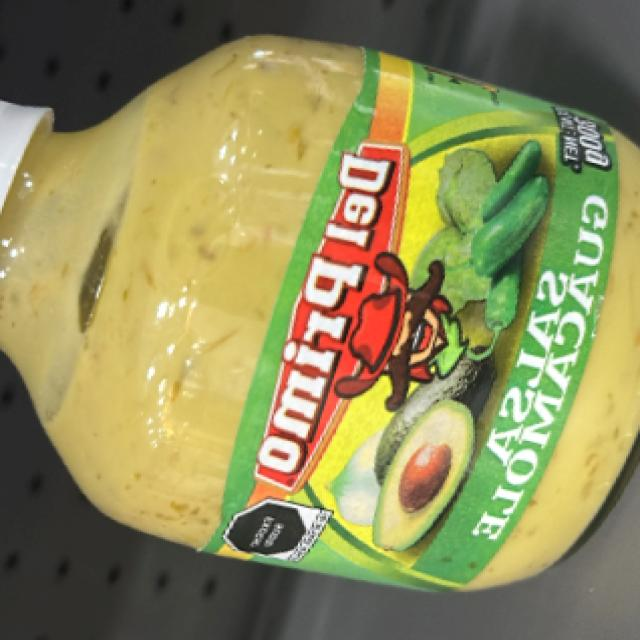delPrimoSalsa: (44, 110, 628, 564)
